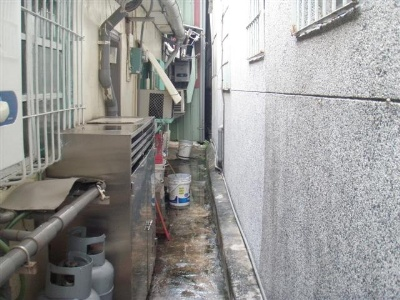bucket: (167, 178, 191, 207), (176, 141, 192, 161)
